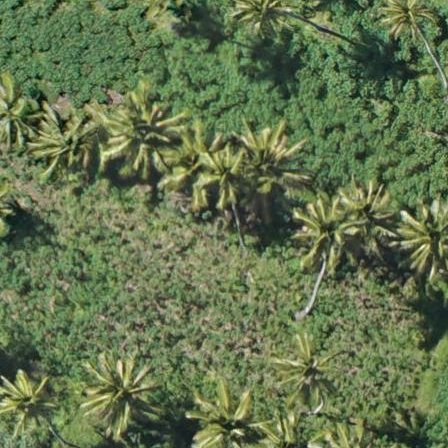palm_tree: (105, 99, 179, 177), (83, 357, 156, 434), (191, 387, 260, 448), (28, 110, 96, 169), (294, 200, 355, 264), (277, 340, 342, 400), (197, 147, 255, 205), (1, 370, 56, 429), (373, 1, 444, 45), (397, 211, 448, 268)
